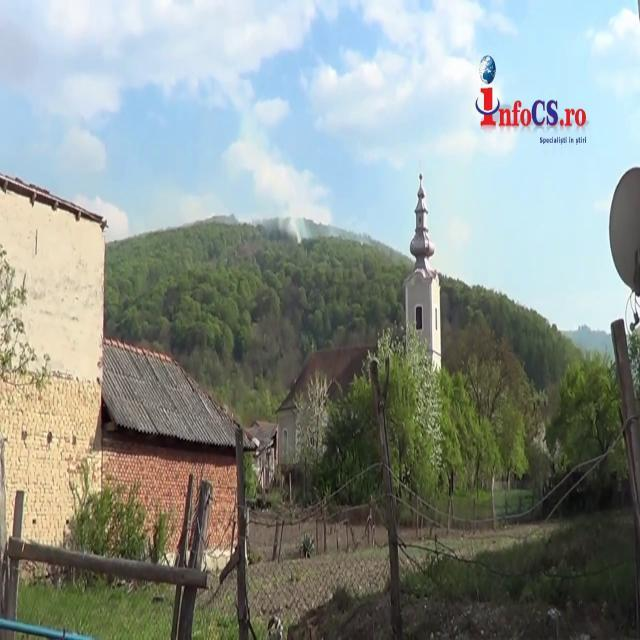Smoke: (276, 200, 310, 244)
